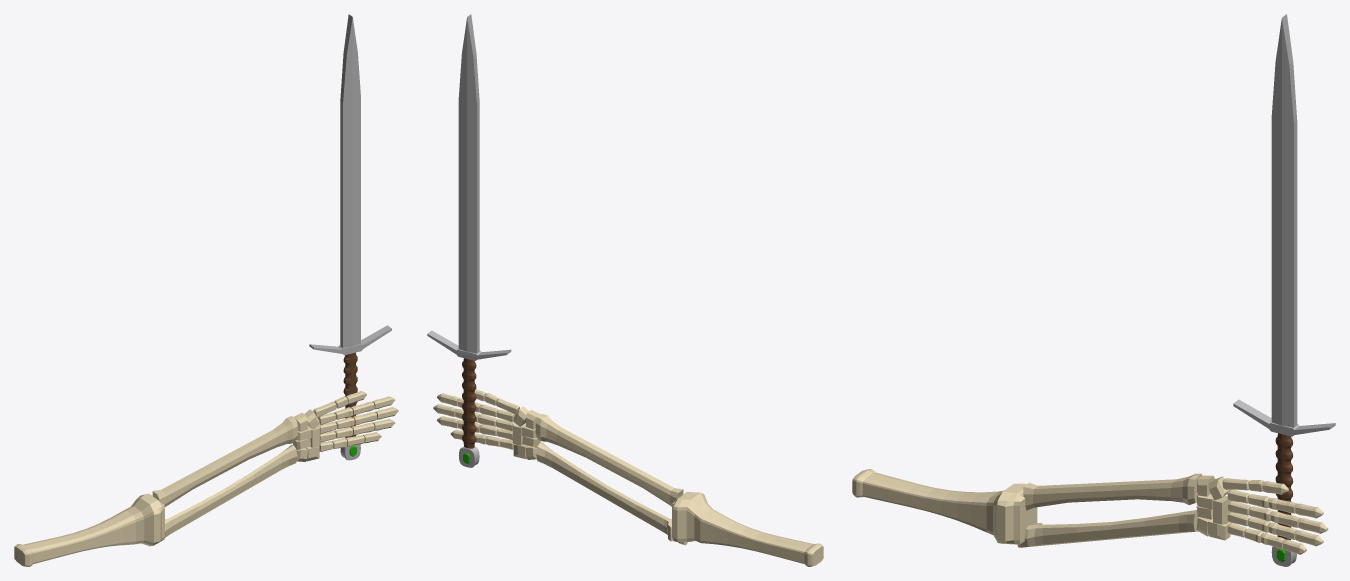
File: parry_arm.glb
The picture shows the model from 3 angles, left to right: view 1: azimuth 30°, elevation 25°; view 2: azimuth 150°, elevation 25°; view 3: azimuth 330°, elevation 25°; orthographic projection. The views are drawn at different scales.
Parts seen in each view (by area): view 1: Cube.002, humerus, radius, ulna, carpalia, middle, index, ring_finger, Cube.004, Cube.001, pinky, thumb; view 2: Cube.002, humerus, radius, ulna, carpalia, Cube.001, Cube.004, middle, index, ring_finger; view 3: Cube.002, humerus, radius, ulna, carpalia, middle, index, ring_finger, Cube.001, Cube.004, pinky, thumb.
Part boxes in pixels (box(x1,y1,x2,y2)): Cube.002: box(340, 14, 360, 347); humerus: box(14, 493, 164, 566); radius: box(152, 416, 297, 506); ulna: box(164, 445, 297, 537); carpalia: box(293, 409, 320, 461); middle: box(320, 407, 398, 433); index: box(318, 396, 395, 424); ring_finger: box(320, 419, 395, 442); Cube.004: box(309, 325, 391, 355); Cube.001: box(343, 352, 357, 437); pinky: box(319, 432, 381, 451); thumb: box(313, 391, 366, 417); Cube.002: box(458, 14, 479, 353); humerus: box(672, 491, 823, 566); radius: box(535, 414, 683, 506); ulna: box(536, 442, 687, 545); carpalia: box(512, 406, 540, 459); Cube.001: box(462, 358, 476, 448); Cube.004: box(427, 330, 511, 360); middle: box(433, 404, 513, 431); index: box(437, 393, 515, 422); ring_finger: box(437, 416, 512, 439); Cube.002: box(1271, 14, 1297, 427); humerus: box(852, 469, 1037, 544); radius: box(1023, 473, 1202, 510); ulna: box(1017, 510, 1198, 547); carpalia: box(1196, 475, 1230, 540); middle: box(1228, 501, 1328, 533); index: box(1227, 489, 1323, 518); ring_finger: box(1227, 512, 1323, 546); Cube.001: box(1275, 433, 1293, 540); Cube.004: box(1233, 399, 1335, 436); pinky: box(1227, 523, 1306, 554); thumb: box(1222, 478, 1288, 494).
Bounding box in the file's own units: 3.76 × 4.52 × 0.3574.
